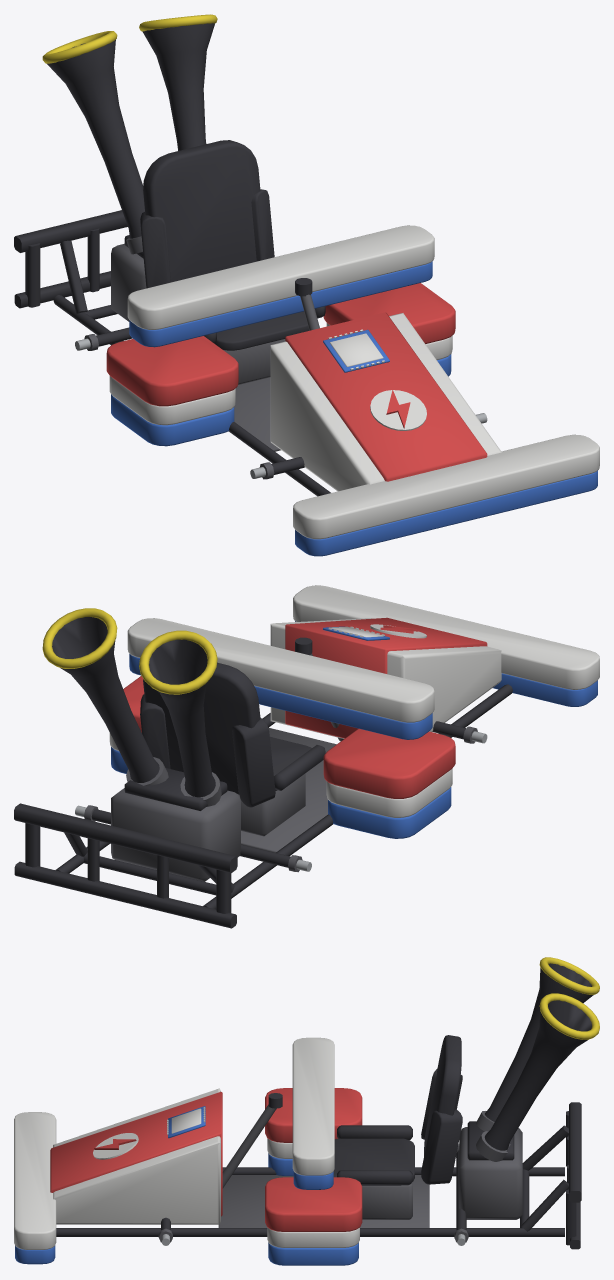
File: gokart.glb
3 views of the same model, one above another, from view 1: azimuth 30°, elevation 25°; view 2: azimuth 150°, elevation 25°; view 3: azimuth 270°, elevation 25° (orthographic). The views are drawn at different scales.
Parts seen in each view (by area): view 1: gokart, gokart_wreck, gokart_sig; view 2: gokart, gokart_wreck, gokart_sig; view 3: gokart, gokart_wreck, gokart_sig.
Part boxes in pixels (x1,y1,x2,y2): gokart: [20, 14, 599, 556]; gokart_wreck: [14, 210, 500, 496]; gokart_sig: [127, 225, 434, 347]; gokart: [14, 585, 599, 928]; gokart_wreck: [14, 618, 512, 928]; gokart_sig: [127, 618, 434, 739]; gokart: [14, 957, 599, 1265]; gokart_wreck: [50, 1069, 581, 1265]; gokart_sig: [292, 1037, 334, 1189].
Size of the model in its own units: 1.42 by 1.18 by 2.78.
